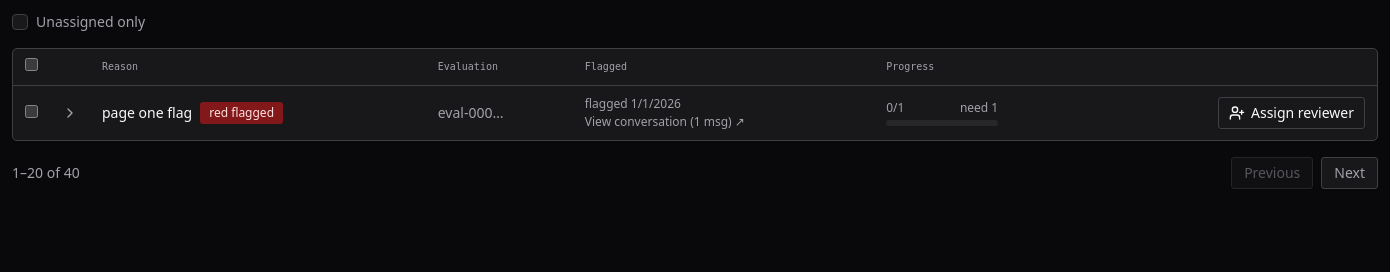
it: ReviewQueuePage — batch selection › shows the batch bar with a count when a flag is checked
This screenshot has width=1390, height=272.
Expected: the link "page one flag" is shown, x1=102 y1=102 x2=192 y2=122
Note: checkboxes: [select-all, row-1]
What coordinates should you click on to do the following:
click the checkbox named "Select all rows"
I would click on:
 (32, 65)
Its box is x1=25 y1=58 x2=38 y2=71.
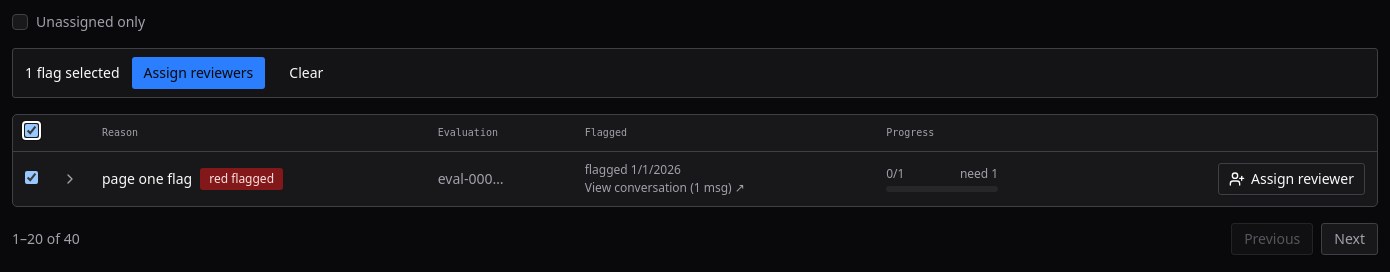
Result: the text "1 flag selected" is shown at x1=25 y1=63 x2=120 y2=83
Result: the button "Assign reviewers" is shown at x1=132 y1=57 x2=265 y2=89
